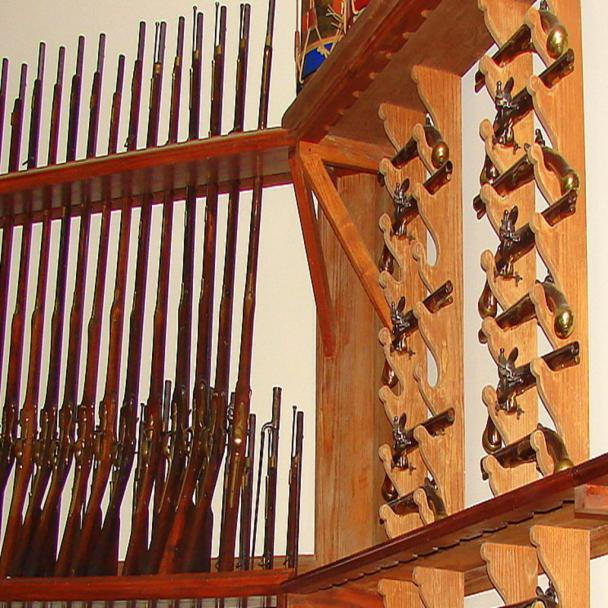Gun: (151, 3, 232, 576), (178, 2, 258, 574), (1, 13, 76, 575), (77, 12, 148, 572), (236, 1, 282, 572), (473, 44, 577, 179), (478, 180, 582, 314), (469, 329, 585, 444), (471, 131, 578, 236), (377, 157, 459, 278), (377, 271, 455, 392), (469, 0, 573, 86), (380, 407, 464, 489), (477, 281, 578, 344), (478, 430, 586, 482), (378, 478, 446, 550), (373, 120, 455, 177)
